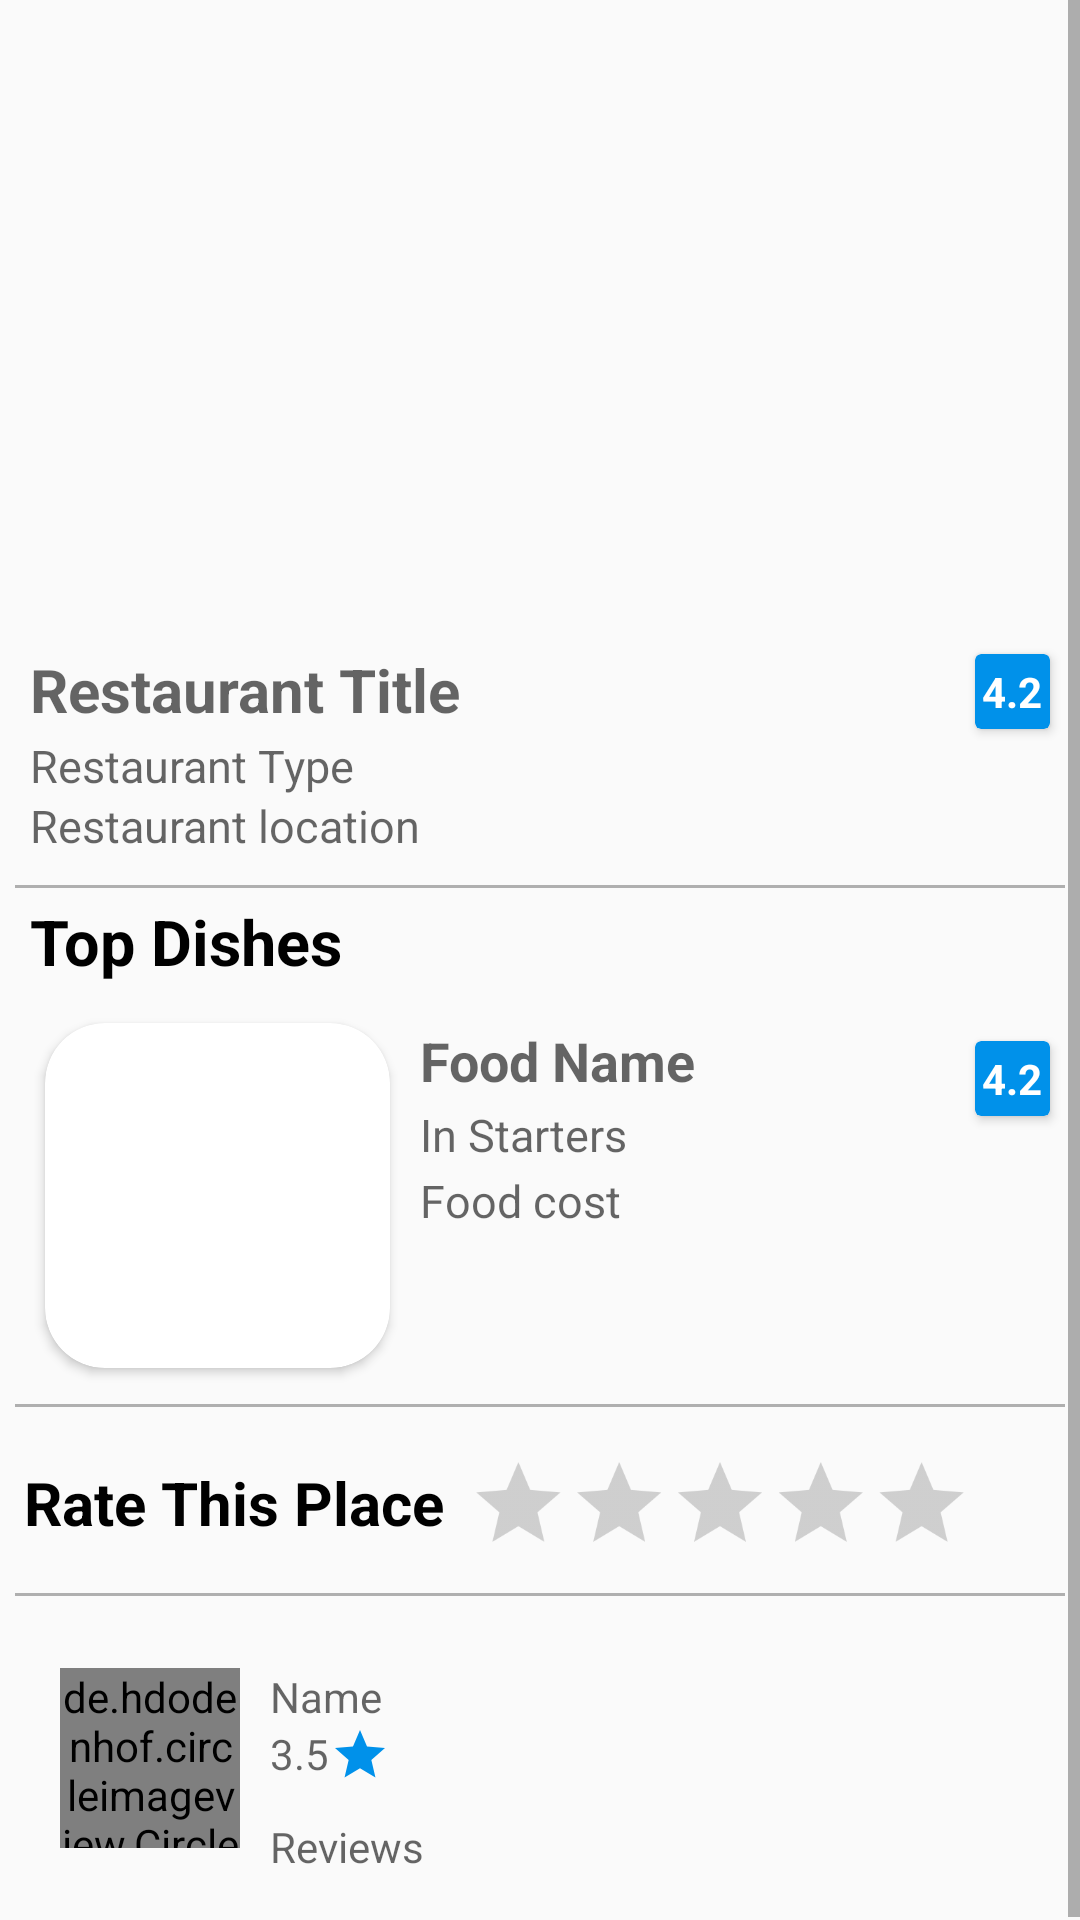

Icons on this 1080*1920 Android screen, each with the point to tap as point (x, y):
star: point (360, 1754)
